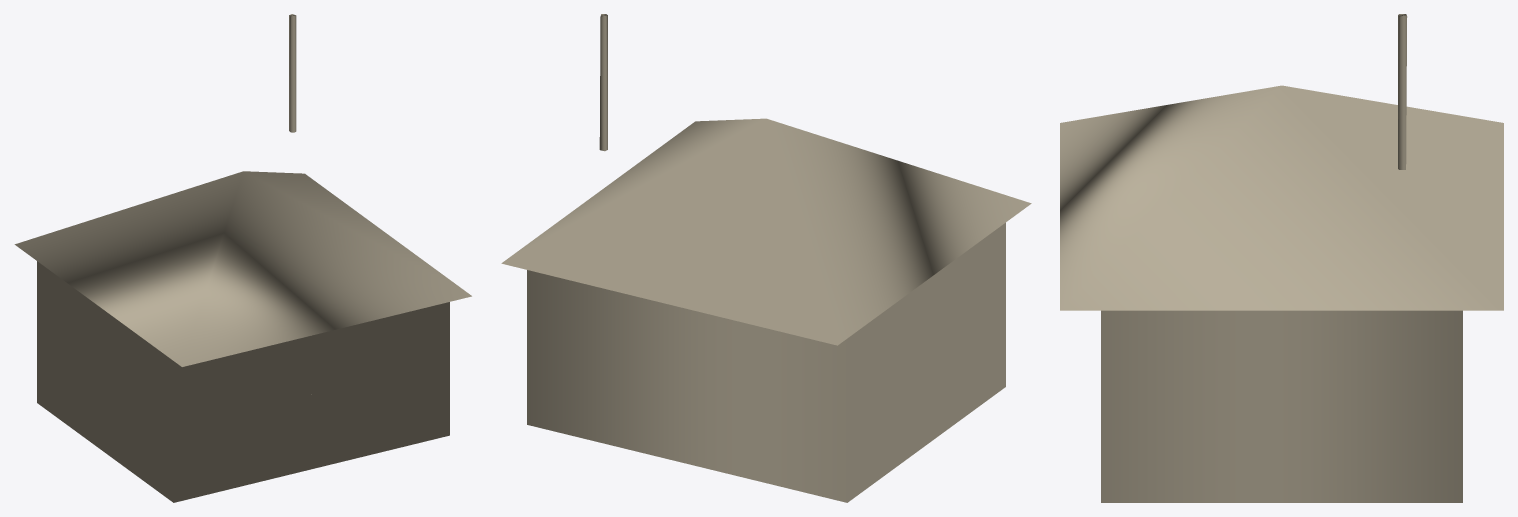
File: camp_hq.lod1.glb
3 renders of one model, left to right at view 1: azimuth 30°, elevation 25°; view 2: azimuth 150°, elevation 25°; view 3: azimuth 270°, elevation 25°, orthographic. The views are drawn at different scales.
Bounding box in the file's own units: 3.68 × 4.2 × 3.68.
